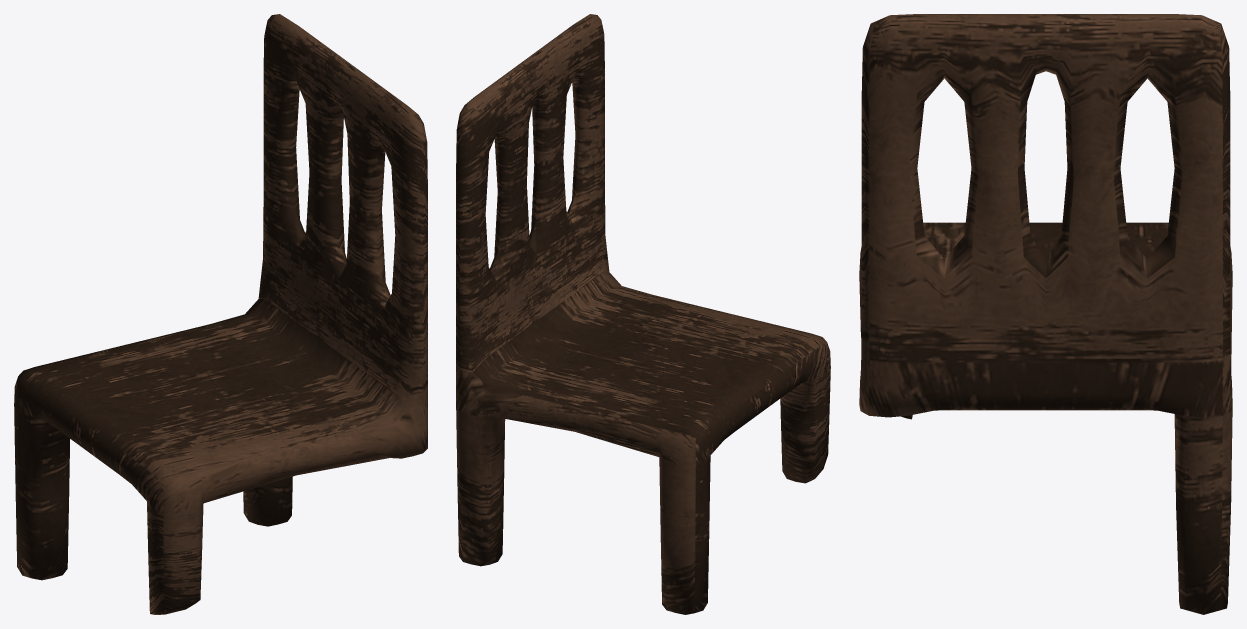
The model's file is Silla_rota.fbx.
The picture shows the model from 3 angles, left to right: view 1: azimuth 30°, elevation 25°; view 2: azimuth 150°, elevation 25°; view 3: azimuth 270°, elevation 25°; orthographic projection. The views are drawn at different scales.
Parts seen in each view (by area): view 1: Silla_rota; view 2: Silla_rota; view 3: Silla_rota.
Part boxes in pixels (left/top/right/bottom): Silla_rota: left=14, top=14, right=427, bottom=614; Silla_rota: left=456, top=14, right=830, bottom=614; Silla_rota: left=859, top=14, right=1232, bottom=614.
Size of the model in its own units: 1682 by 3001 by 1687.
